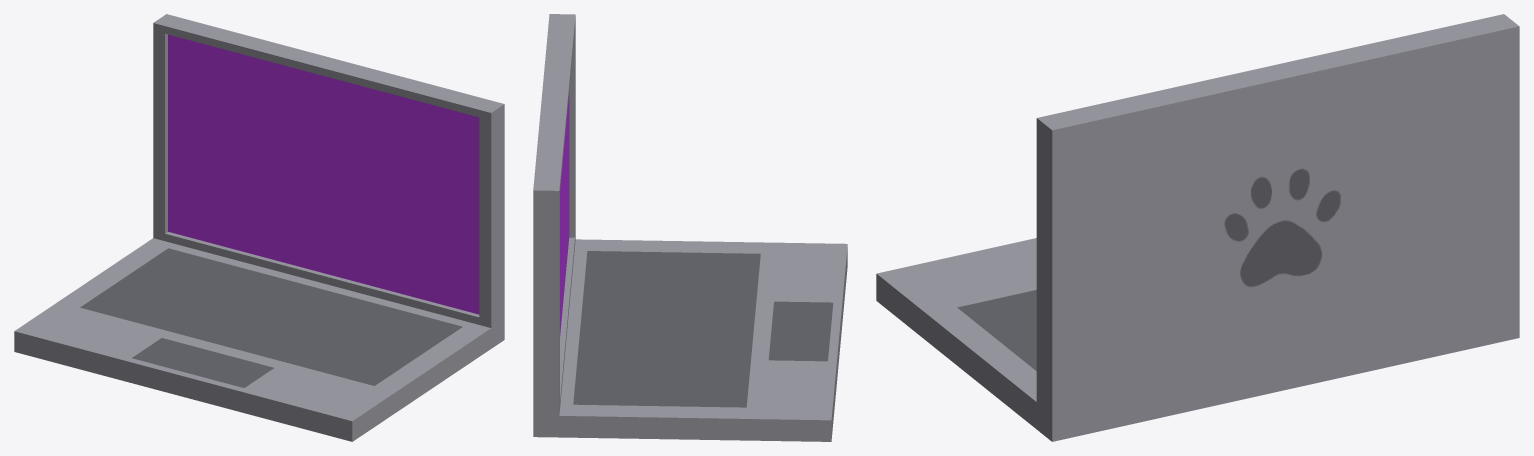
Rendered from Laptop_WorkRoom.glb.
The picture shows the model from 3 angles, left to right: view 1: azimuth 30°, elevation 25°; view 2: azimuth 150°, elevation 25°; view 3: azimuth 270°, elevation 25°; orthographic projection. The views are drawn at different scales.
Parts seen in each view (by area): view 1: Laptop.002; view 2: Laptop.002; view 3: Laptop.002.
Boxes of the visible parts, bbox=[...] form: Laptop.002: bbox=[14, 14, 504, 441]; Laptop.002: bbox=[533, 14, 847, 441]; Laptop.002: bbox=[876, 14, 1519, 441].
Size of the model in its own units: 0.3843 by 0.2279 by 0.4262.
1 material, 1 textured.
